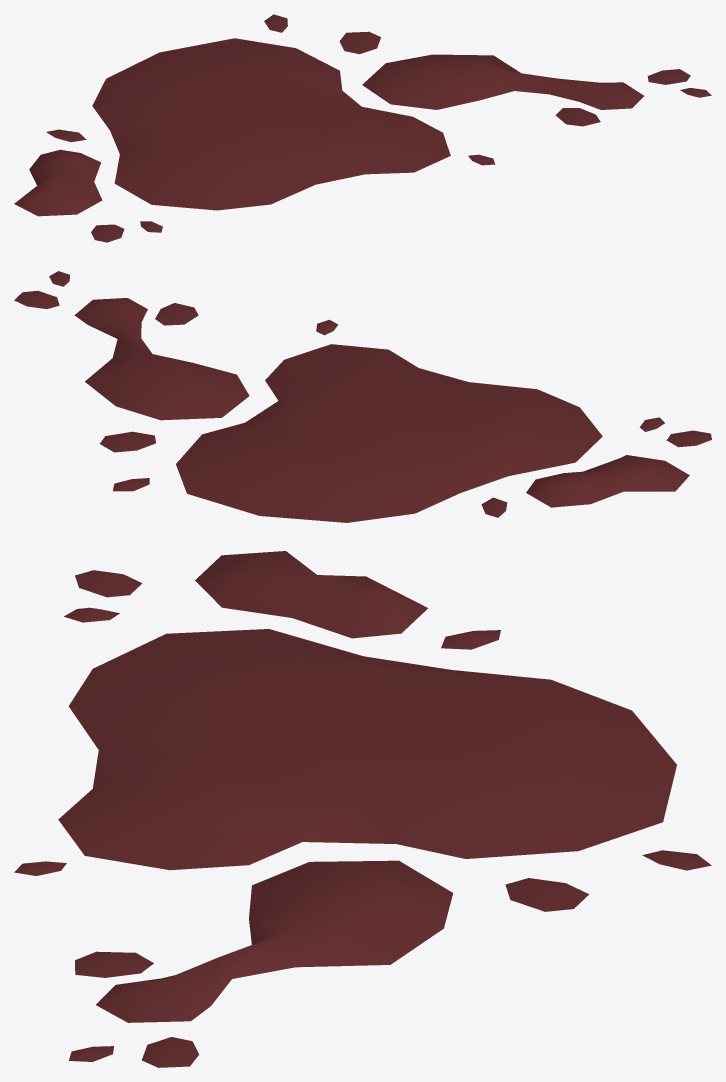
File: Blood 01.fbx
3 renders of one model, top to bottom at view 1: azimuth 30°, elevation 25°; view 2: azimuth 150°, elevation 25°; view 3: azimuth 270°, elevation 25°, orthographic. The views are drawn at different scales.
Parts seen in each view (by area): view 1: Blood_01; view 2: Blood_01; view 3: Blood_01.
Part boxes in pixels (x1,y1,x2,y2): Blood_01: (14,14,711,242); Blood_01: (14,271,711,522); Blood_01: (14,551,711,1067).
Size of the model in its own units: 74.07 by 1.25 by 42.28.
